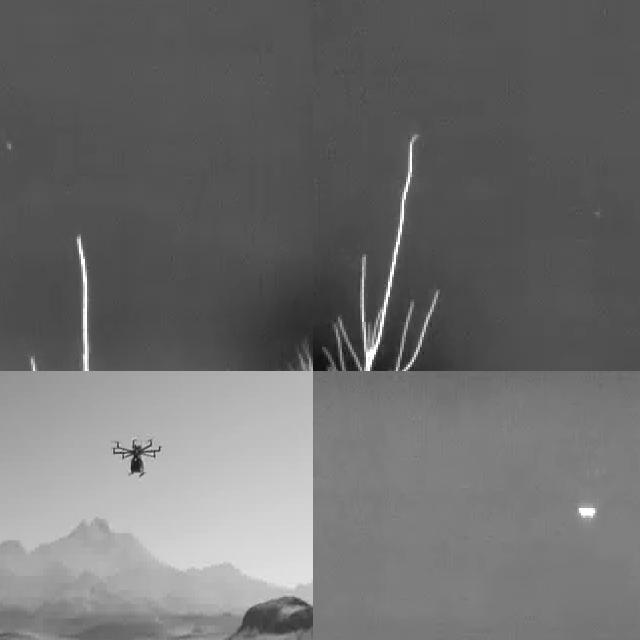0: (586, 202, 612, 230), (0, 132, 22, 165)
1: (571, 500, 607, 530)
drone: (112, 430, 164, 480)
